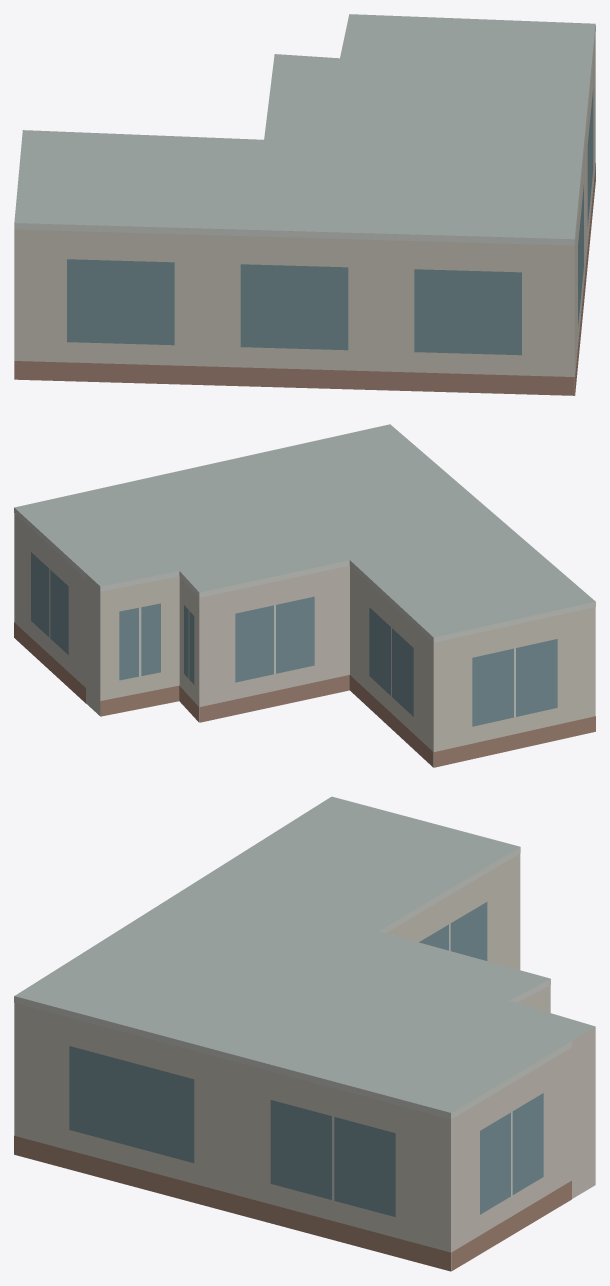
The model's file is survey-upis-32729045.glb.
3 renders of one model, top to bottom at view 1: azimuth 30°, elevation 25°; view 2: azimuth 150°, elevation 25°; view 3: azimuth 270°, elevation 25°, orthographic. The views are drawn at different scales.
Visible parts, largest first — view 1: survey-upis-32729045.tmp; view 2: survey-upis-32729045.tmp; view 3: survey-upis-32729045.tmp.
Part boxes in pixels (x1,y1,x2,y2): survey-upis-32729045.tmp: (14,14,595,395); survey-upis-32729045.tmp: (14,424,595,767); survey-upis-32729045.tmp: (14,796,595,1271).
Size of the model in its own units: 13.07 by 3.05 by 10.15.
